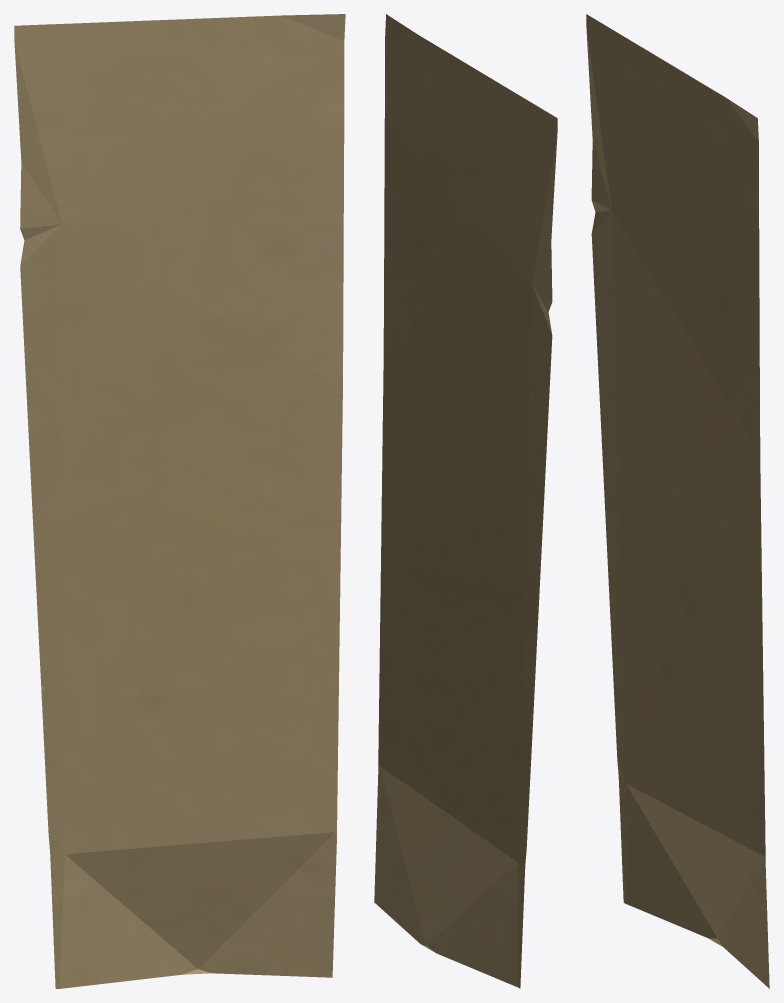
3 renders of one model, left to right at view 1: azimuth 30°, elevation 25°; view 2: azimuth 150°, elevation 25°; view 3: azimuth 330°, elevation 25°, orthographic. The views are drawn at different scales.
Bounding box in the file's own units: 0.2346 × 0.8374 × 0.1104.
1 material, 1 textured.
